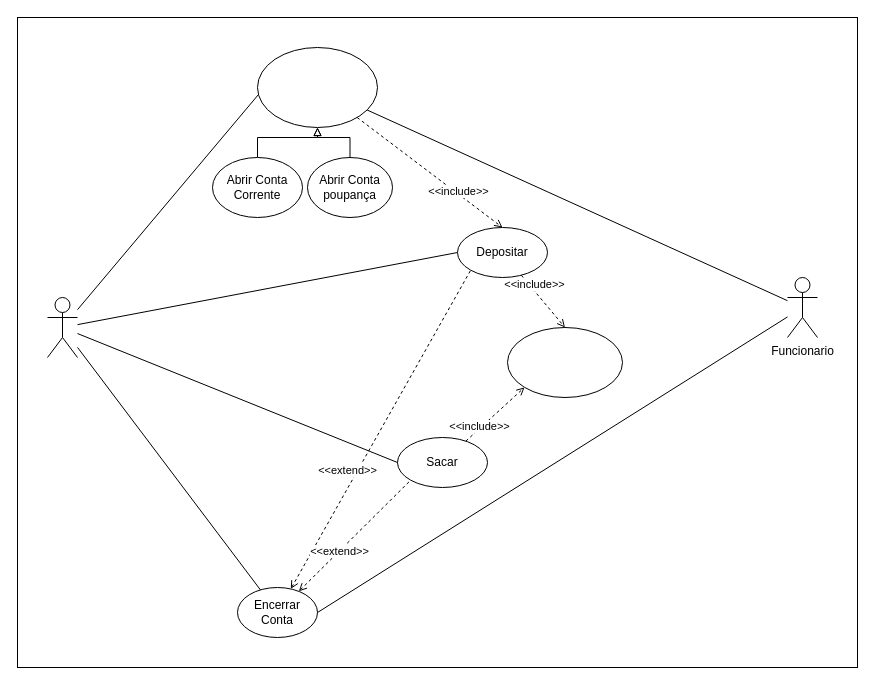
Some shapes in this 875 by 685 pixel diagram are drawn without their labels. Each missing label, with the box of its shape:
Abrir Conta: (256, 46, 378, 128)
Cliente: (46, 296, 78, 358)
Registrar Movimentação Financeira: (506, 326, 622, 398)
